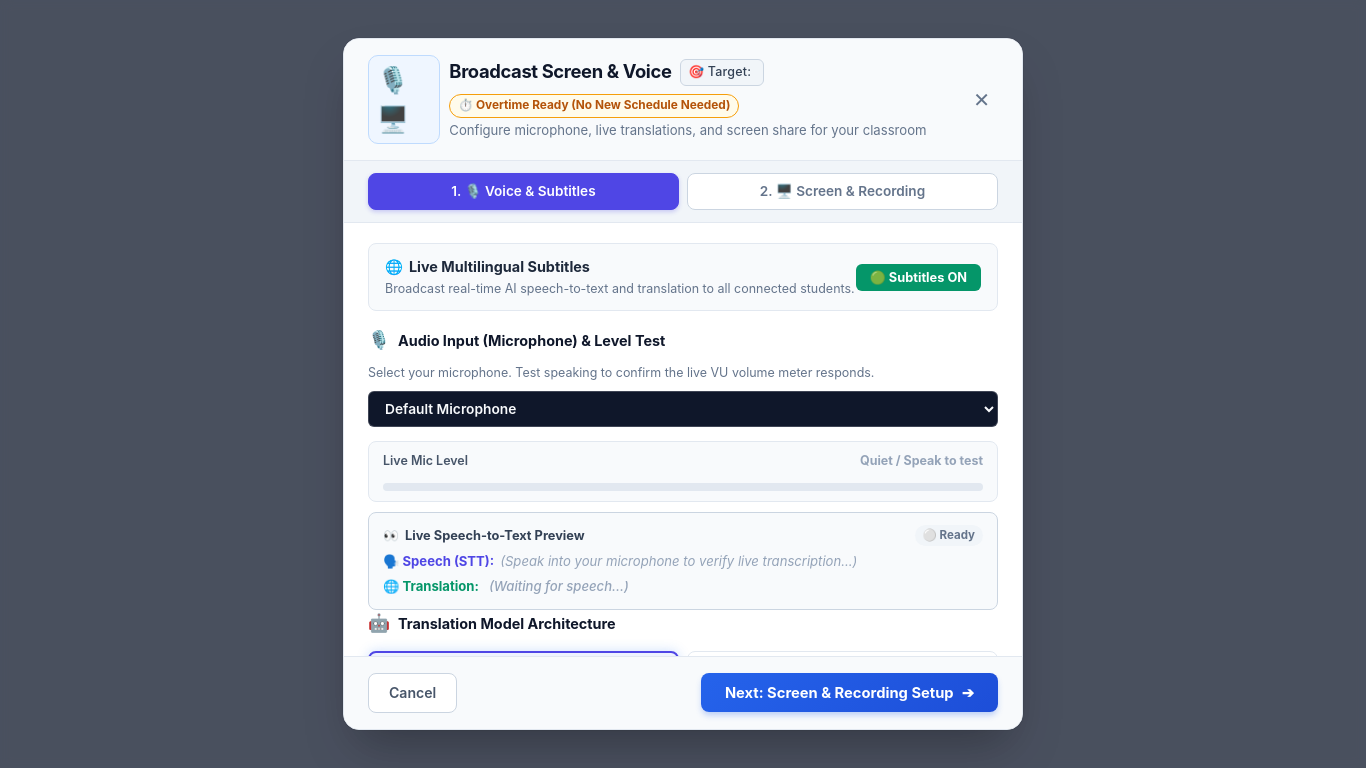
Test: TeacherScreenBroadcastModal › navigates to Step 2 (Screen & Recording Setup) and displays resolution and framerate options
# Click "Next: Screen & Recording Setup"
Click the button "Next: Screen & Recording Setup ➔". click: (849, 693)
box: [701, 673, 998, 712]
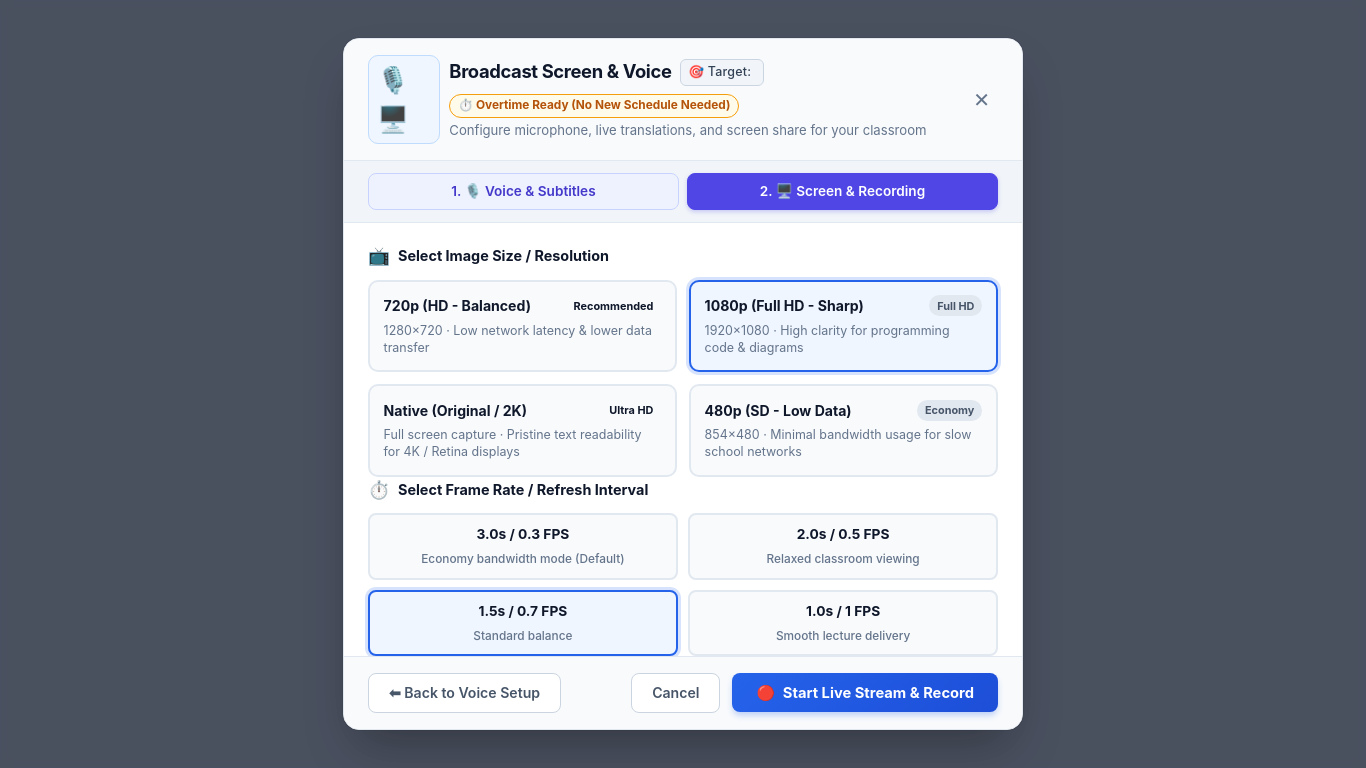
expect the text "1080p (Full HD - Sharp)" is shown: met, box [705, 295, 864, 316]
expect the text "Native (Original / 2K)" is shown: met, box [384, 400, 527, 421]
expect the text "720p (HD - Balanced)" is shown: met, box [384, 295, 531, 316]
